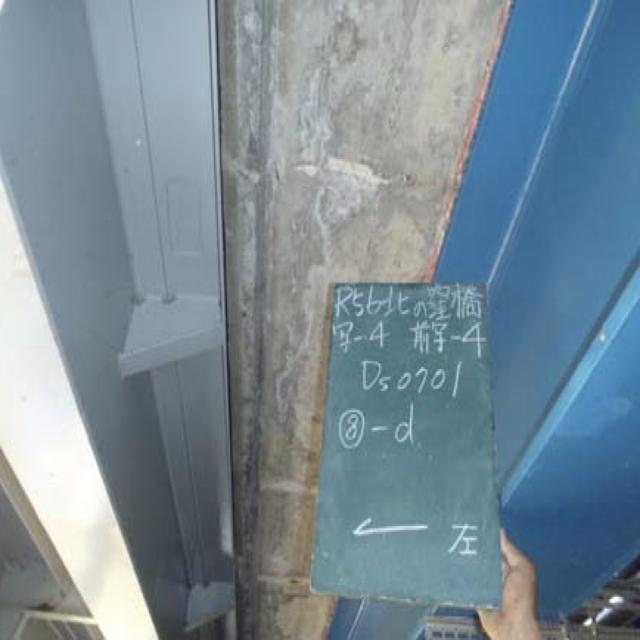spalling: (292, 66, 377, 230)
